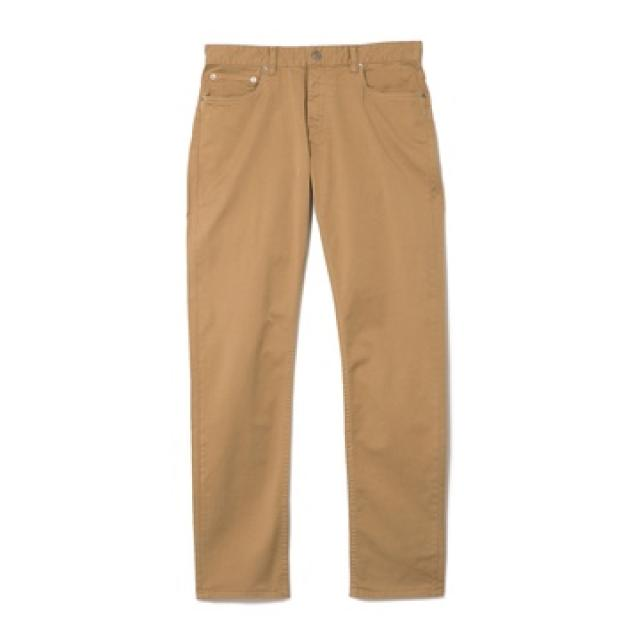long-pants: (187, 43, 453, 608)
